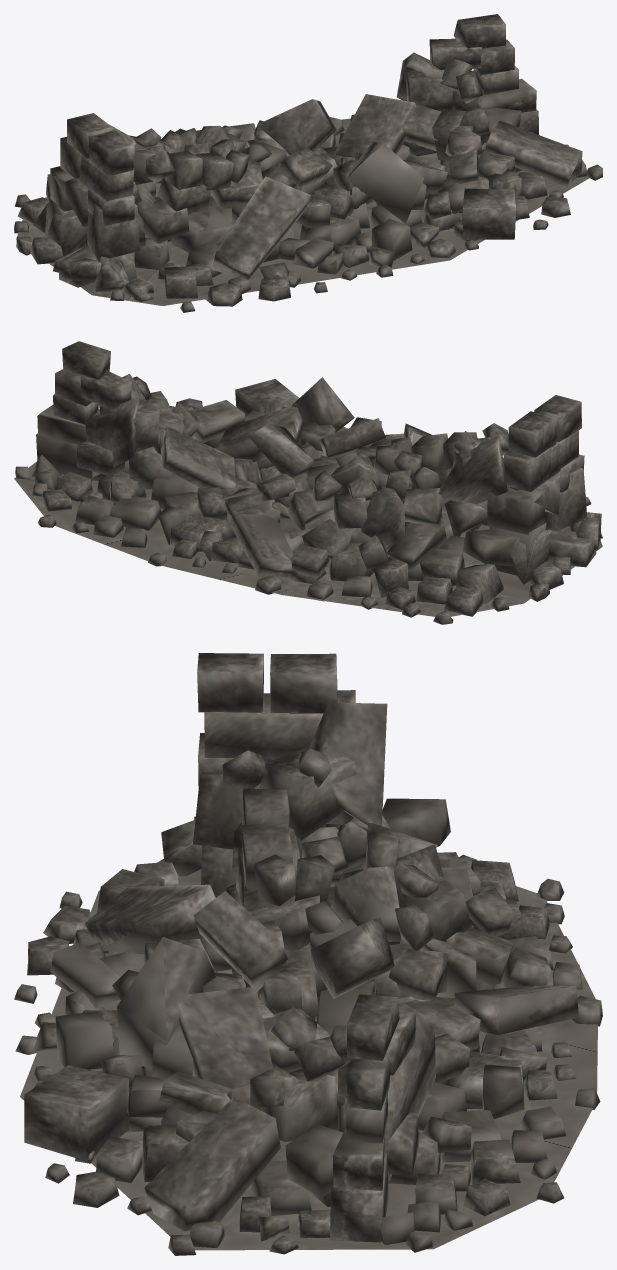
The model's file is d_rubble_large.glb.
The picture shows the model from 3 angles, top to bottom: view 1: azimuth 30°, elevation 25°; view 2: azimuth 150°, elevation 25°; view 3: azimuth 270°, elevation 25°; orthographic projection. The views are drawn at different scales.
Visible parts, largest first — view 1: d_rubble_large; view 2: d_rubble_large; view 3: d_rubble_large.
Boxes of the visible parts, x1=… form: d_rubble_large: x1=14, y1=14, x2=602, y2=312; d_rubble_large: x1=14, y1=341, x2=602, y2=624; d_rubble_large: x1=14, y1=653, x2=602, y2=1255.
Bounding box in the file's own units: 5.13 × 1.35 × 3.18.
1 material, 1 textured.
